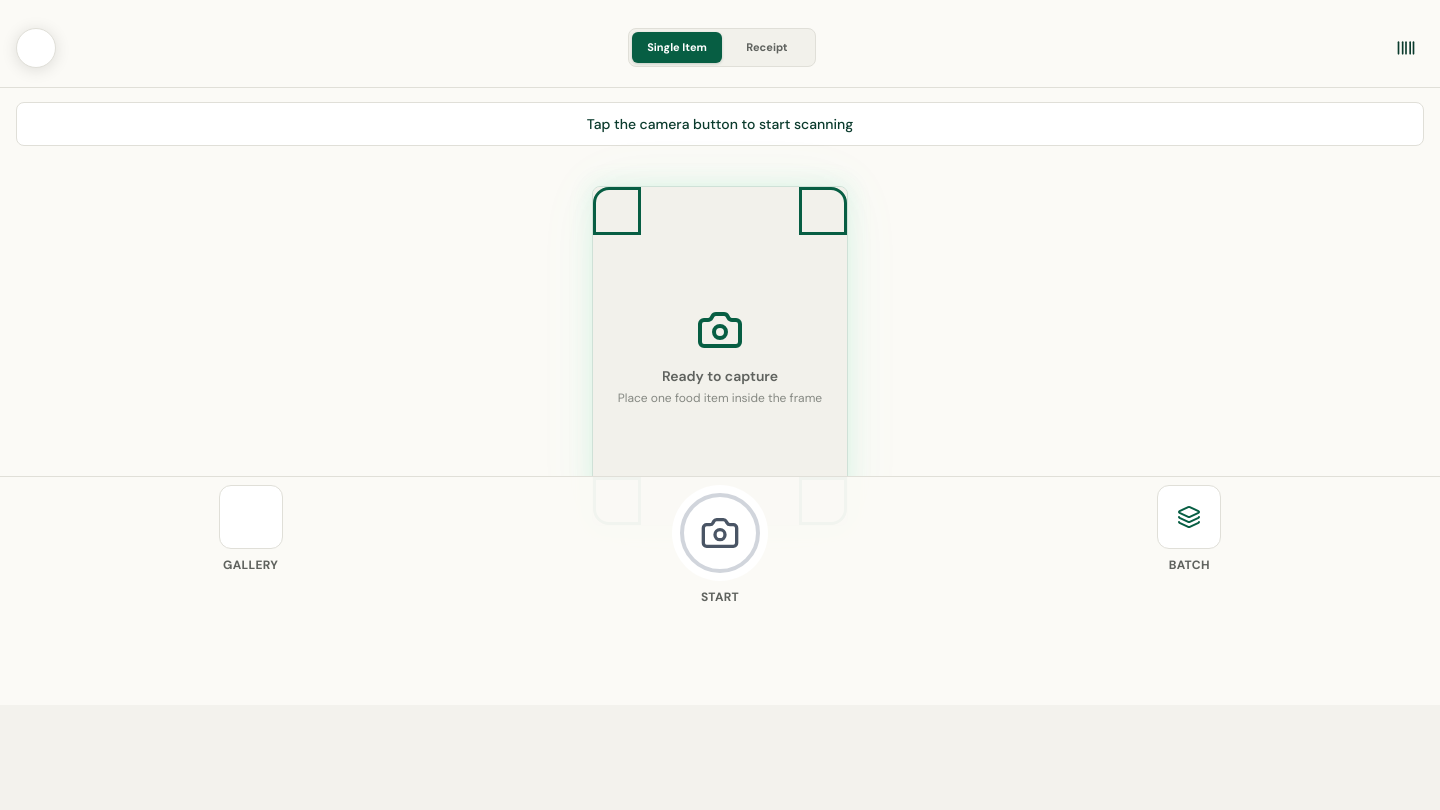
it: Scan receipt mode › shows privacy-safe guidance when camera permission is denied
Click the button with aria-label "Open camera for item" at (720, 545), box [672,485,768,605]
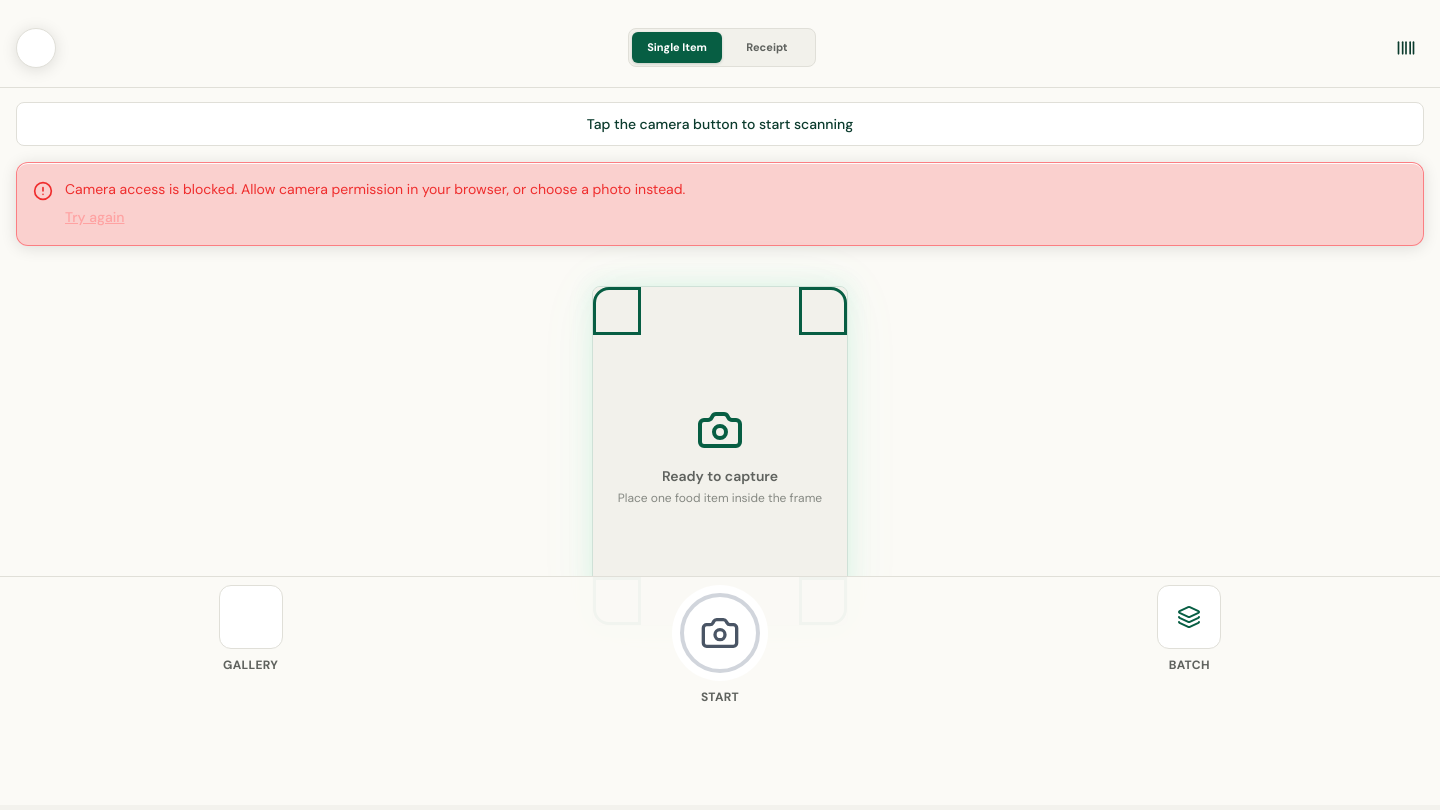
Expected: the message shows "Camera access is blocked. Allow camera permission in your browser, or choose a photo instead.", [65,180,685,198]
